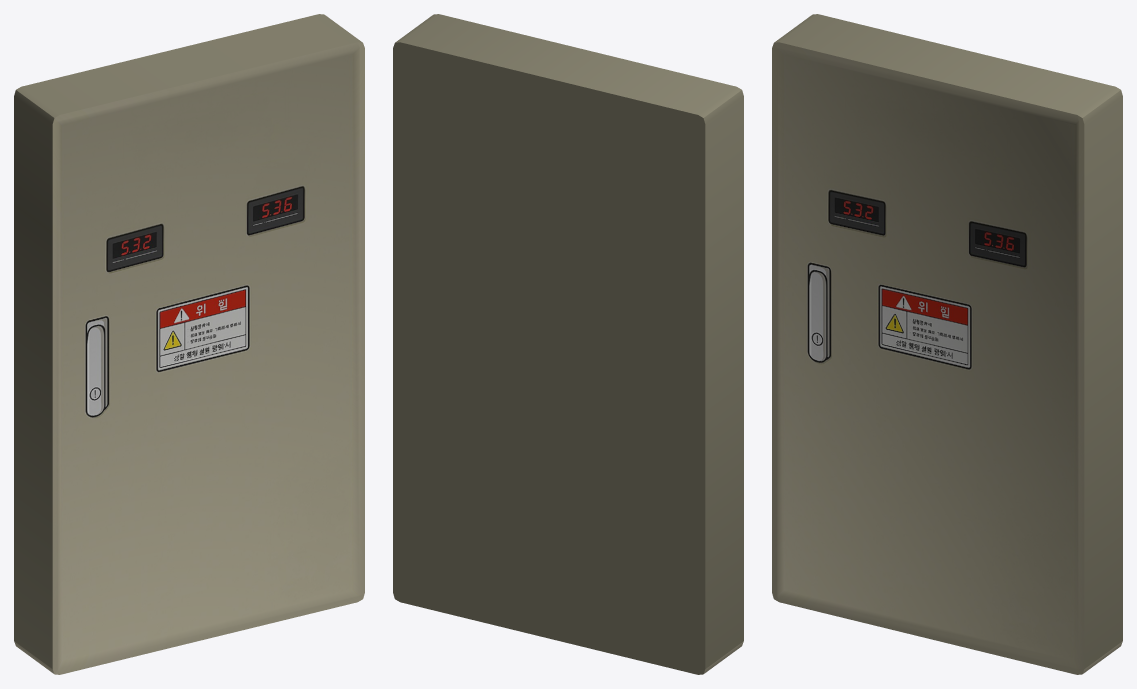
The picture shows the model from 3 angles, left to right: view 1: azimuth 30°, elevation 25°; view 2: azimuth 150°, elevation 25°; view 3: azimuth 330°, elevation 25°; orthographic projection.
Visible parts, largest first — view 1: PLC본체(전원환경감시)057; view 2: PLC본체(전원환경감시)057; view 3: PLC본체(전원환경감시)057.
Boxes of the visible parts, x1,y1,x2,y2 form: PLC본체(전원환경감시)057: (14,14,364,674); PLC본체(전원환경감시)057: (393,14,743,674); PLC본체(전원환경감시)057: (772,14,1122,674).
Bounding box in the file's own units: 0.7 × 1.2 × 0.15.
2 materials, 1 textured.
